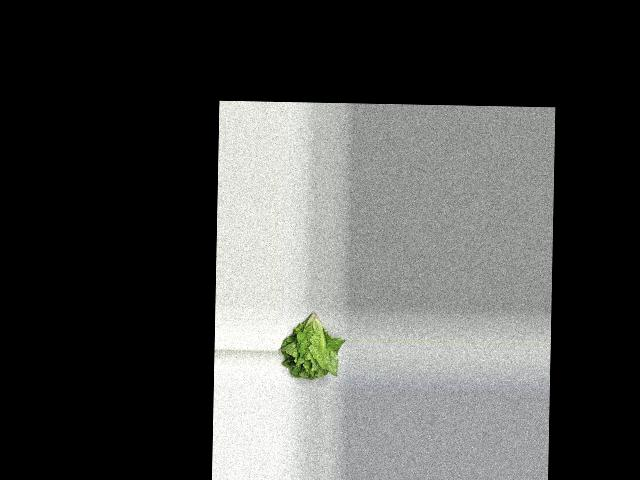lettuce: (279, 310, 345, 380)
